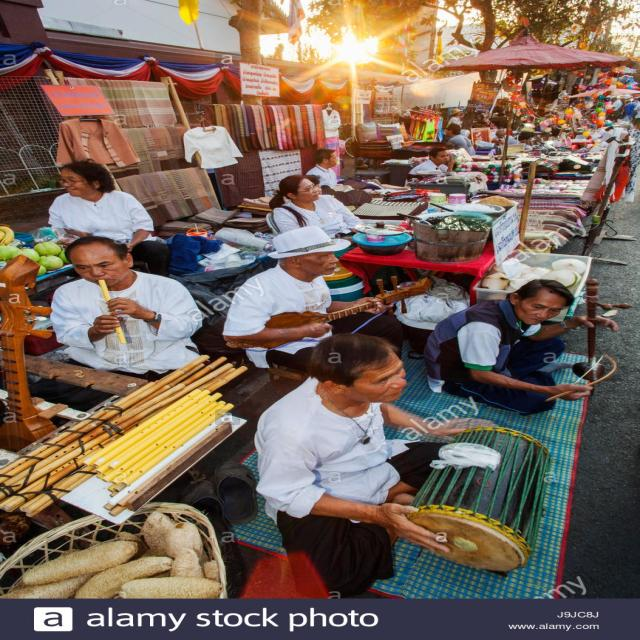body: (249, 330, 504, 600), (29, 234, 207, 412), (418, 276, 622, 418), (218, 224, 408, 375), (46, 157, 174, 280), (267, 173, 403, 287), (403, 146, 457, 188), (304, 148, 339, 189), (440, 122, 477, 157), (606, 97, 640, 130), (506, 131, 535, 150), (490, 129, 517, 149), (445, 108, 466, 130)
